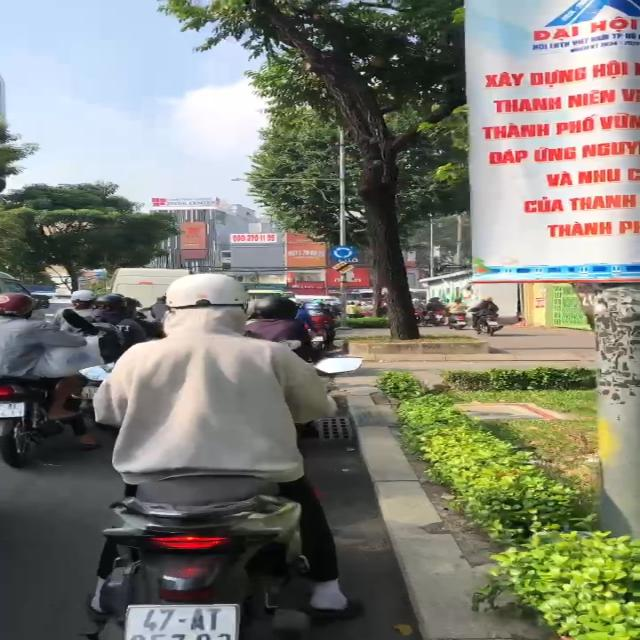Bien bao noi giao nhau chay theo vong xuyen: (330, 244, 358, 260)
